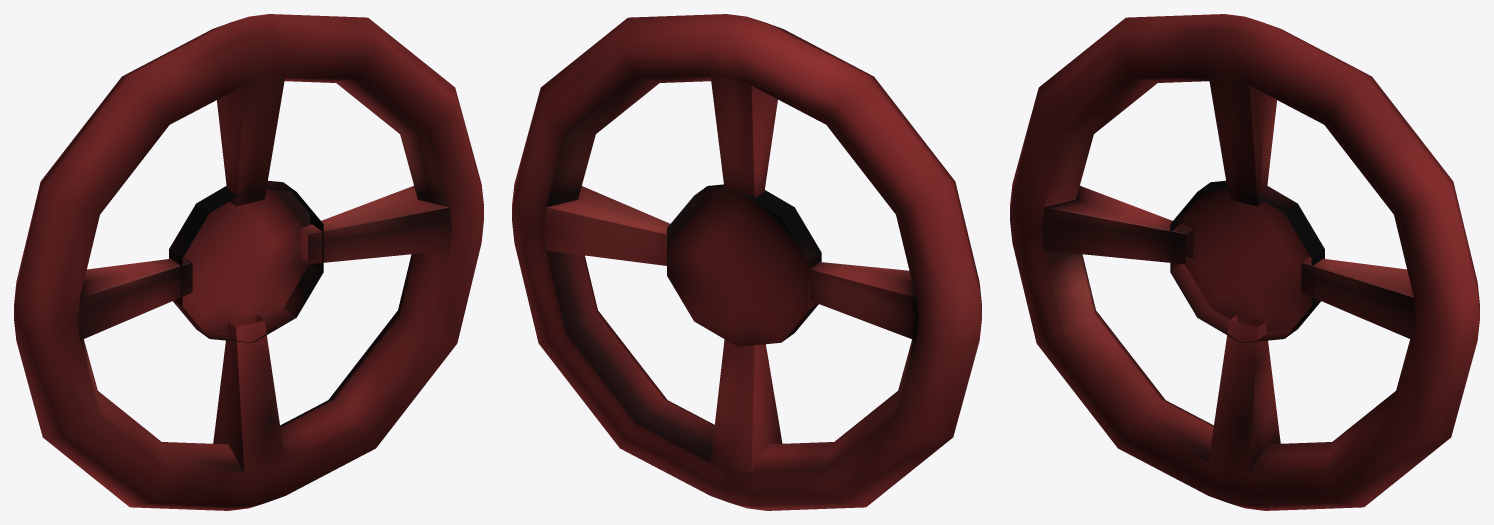
The model's file is valvula.glb.
3 renders of one model, left to right at view 1: azimuth 30°, elevation 25°; view 2: azimuth 150°, elevation 25°; view 3: azimuth 330°, elevation 25°, orthographic.
Visible parts, largest first — view 1: valvula1.001; view 2: valvula1.001; view 3: valvula1.001.
Boxes of the visible parts, <box> form: valvula1.001: <box>14,14,483,510</box>; valvula1.001: <box>512,14,981,510</box>; valvula1.001: <box>1010,14,1479,510</box>.
Bounding box in the file's own units: 0.5597 × 0.5597 × 0.0657.
1 material, 1 textured.
